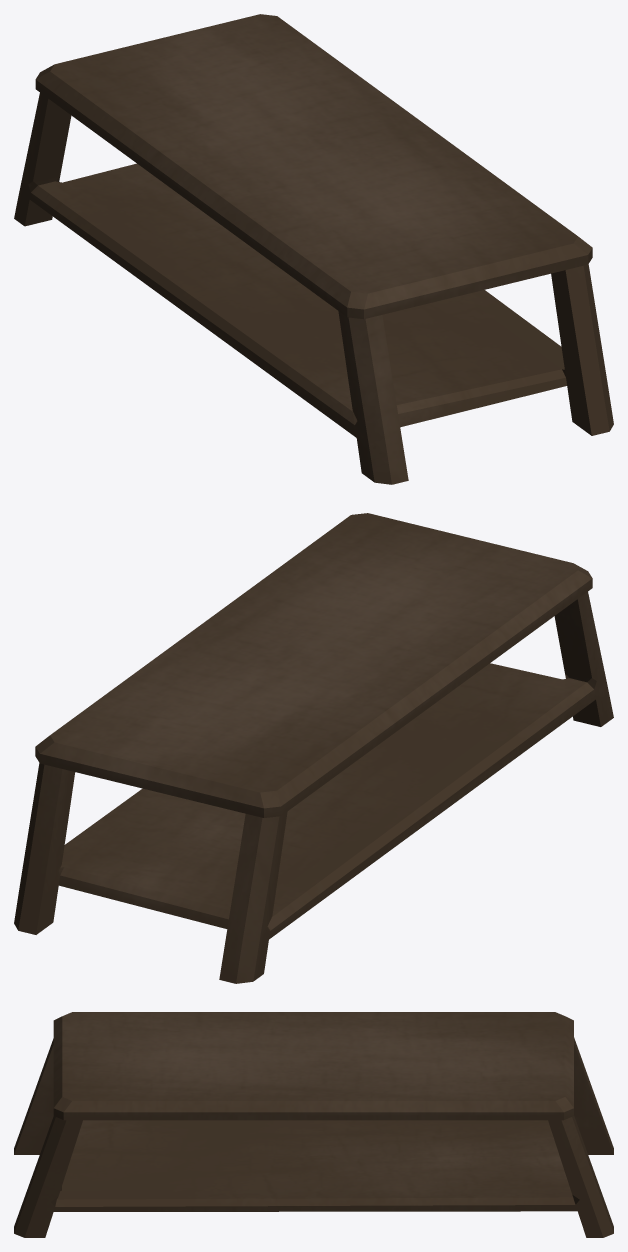
File: living room table.fbx
3 views of the same model, one above another, from view 1: azimuth 30°, elevation 25°; view 2: azimuth 150°, elevation 25°; view 3: azimuth 270°, elevation 25° (orthographic). The views are drawn at different scales.
Parts seen in each view (by area): view 1: polySurface420; view 2: polySurface420; view 3: polySurface420.
Part boxes in pixels (left/top/right/bottom): polySurface420: left=14, top=14, right=613, bottom=484; polySurface420: left=14, top=513, right=613, bottom=983; polySurface420: left=14, top=1012, right=613, bottom=1237.
Bounding box in the file's own units: 0.9216 × 0.6012 × 2.43.
Materials: 1 (1 with a texture image).
